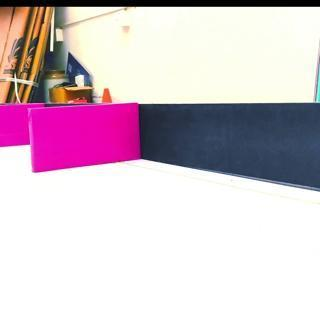xparking: (28, 103, 140, 166)
